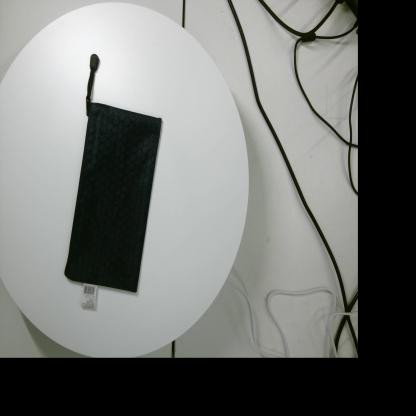Stationery: (64, 54, 162, 309)
